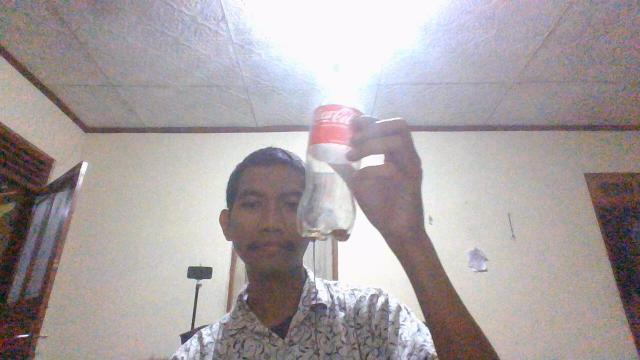coca-cola: (295, 53, 376, 242)
